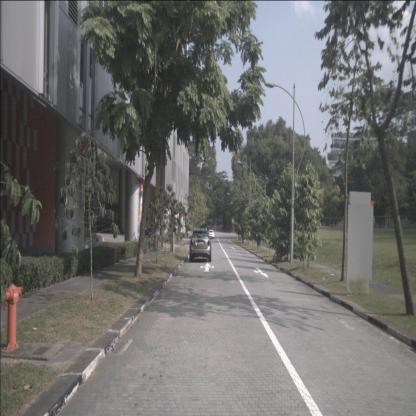vehicle-car: (190, 228, 212, 262), (208, 230, 214, 239)
vehicle-truck: (207, 219, 213, 233)
